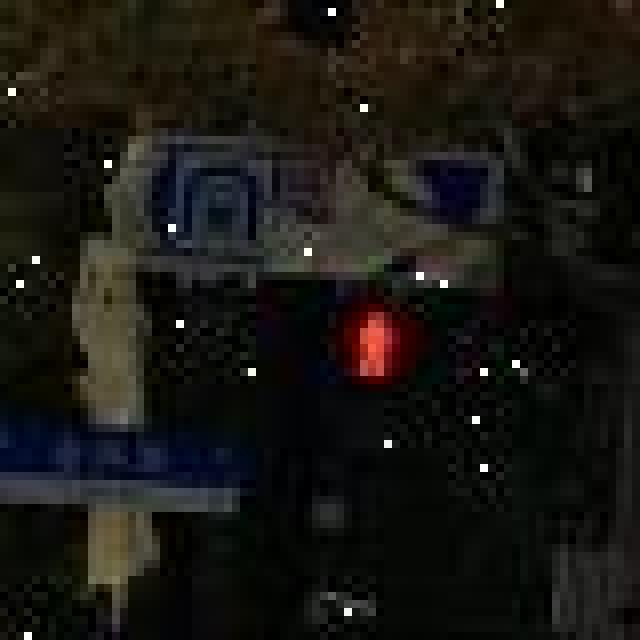redlight: (318, 294, 436, 506)
